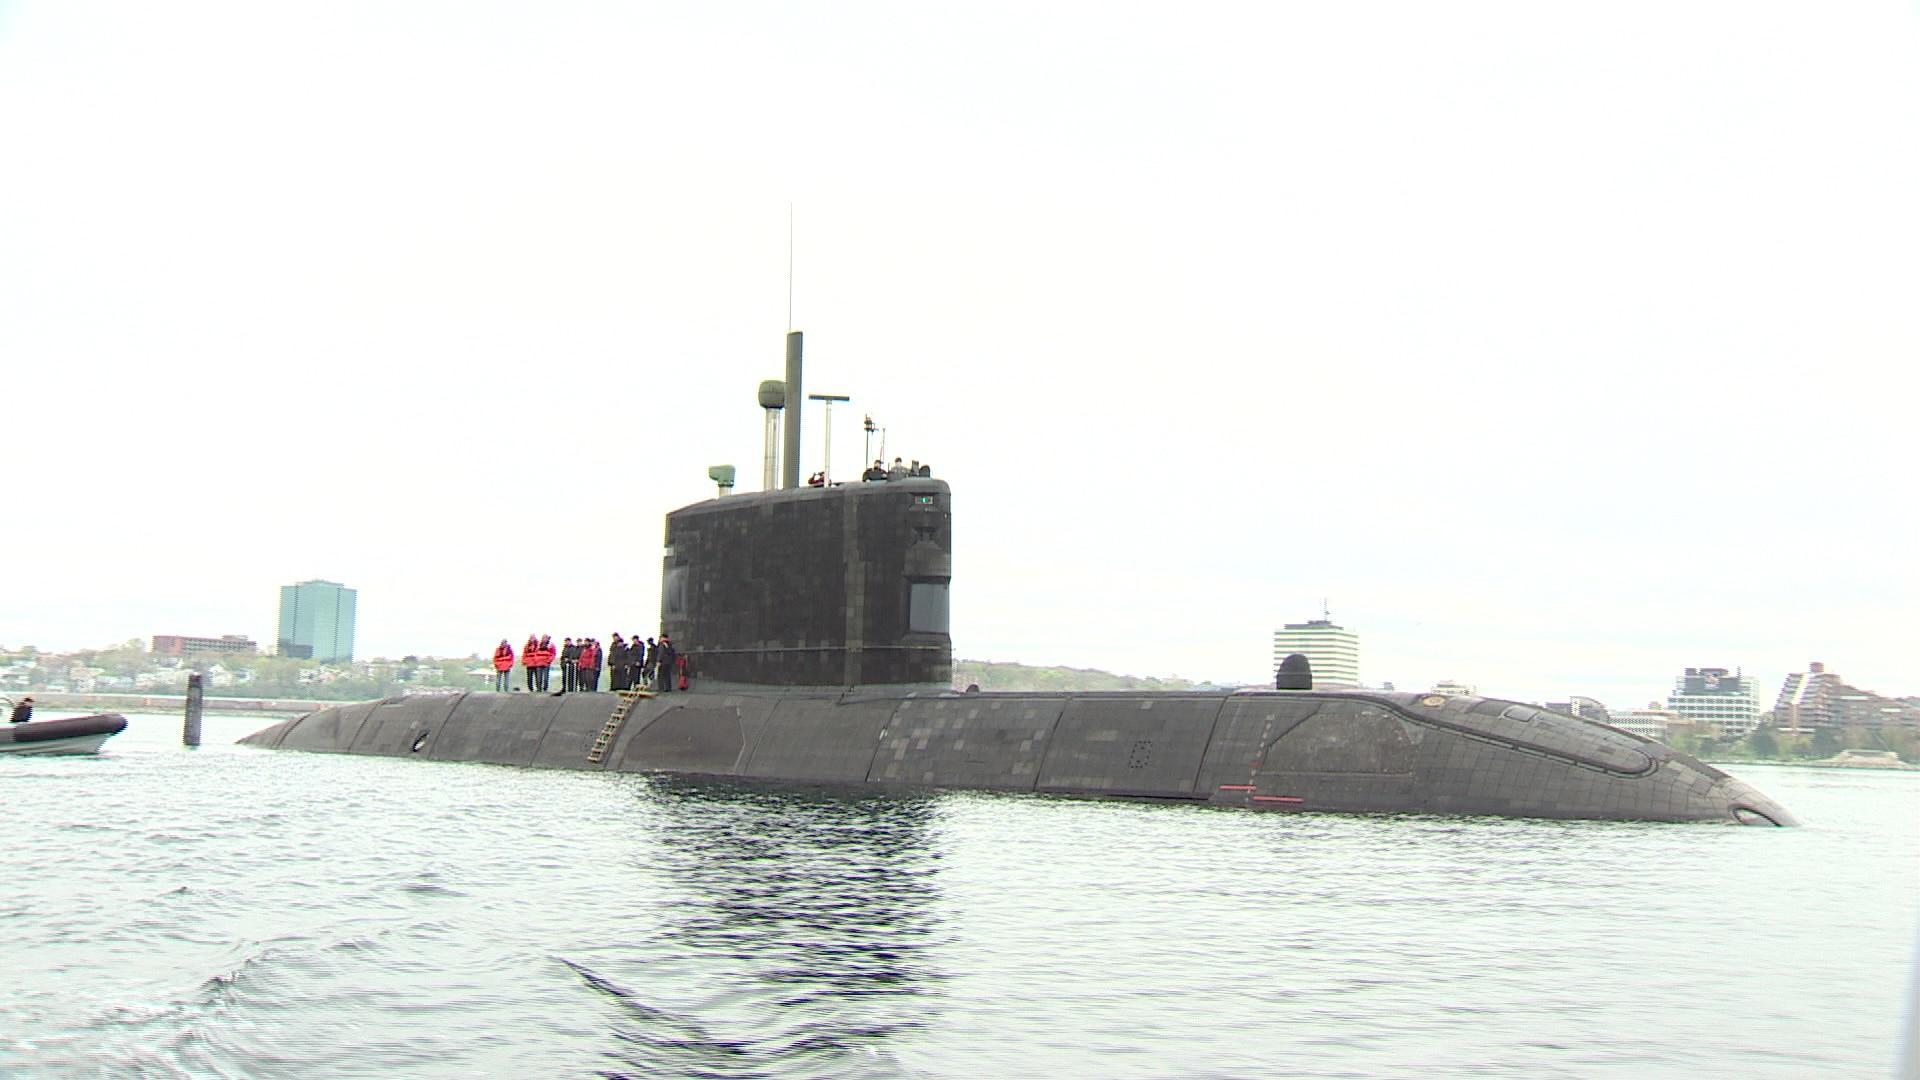Submarine: (120, 300, 1903, 920)
